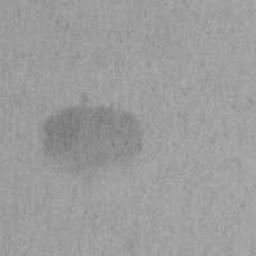Oil spot: (43, 99, 143, 168)
